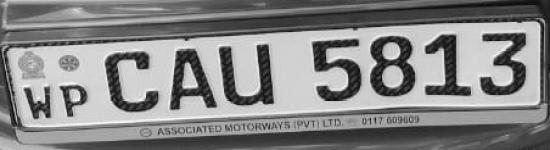1: (425, 30, 475, 99)
3: (479, 28, 532, 96)
5: (303, 36, 365, 103)
8: (365, 29, 421, 103)
A: (162, 41, 219, 116)
C: (95, 47, 162, 116)
P: (59, 82, 89, 119)
U: (218, 42, 278, 114)
W: (22, 82, 56, 123)
